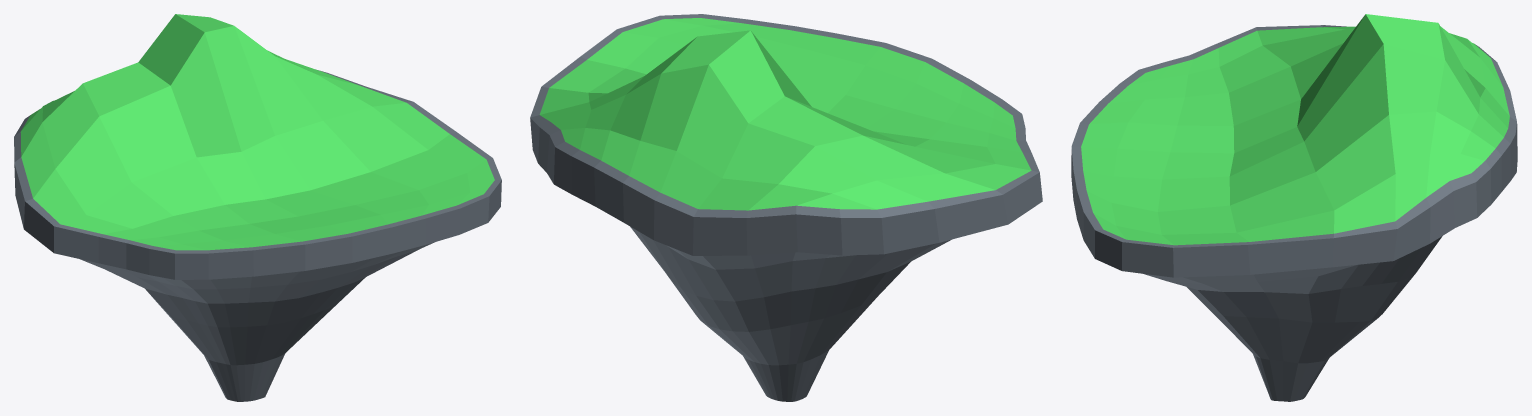
File: medium_island_01.fbx
3 renders of one model, left to right at view 1: azimuth 30°, elevation 25°; view 2: azimuth 150°, elevation 25°; view 3: azimuth 270°, elevation 25°, orthographic. The views are drawn at different scales.
Visible parts, largest first — view 1: Plane.002; view 2: Plane.002; view 3: Plane.002.
Part boxes in pixels (left/top/right/bottom): Plane.002: left=14, top=14, right=501, bottom=401; Plane.002: left=530, top=14, right=1042, bottom=401; Plane.002: left=1071, top=14, right=1517, bottom=401.
Bounding box in the file's own units: 3195 × 2565 × 2751.
